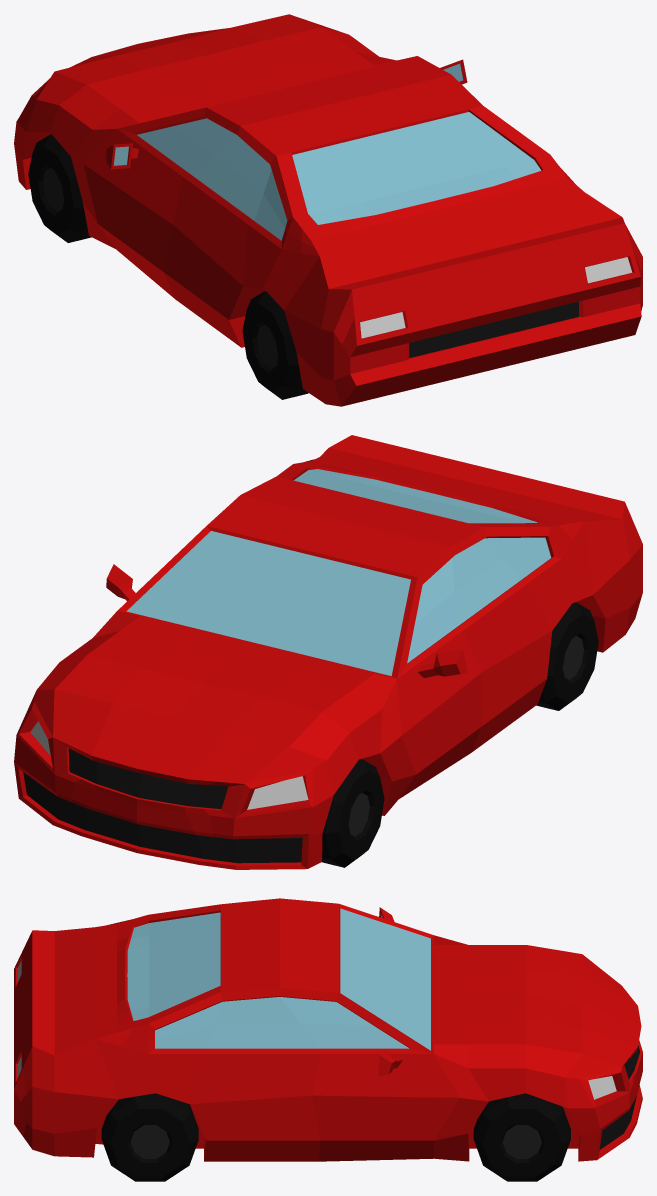
File: RedCar.obj
3 renders of one model, top to bottom at view 1: azimuth 30°, elevation 25°; view 2: azimuth 150°, elevation 25°; view 3: azimuth 270°, elevation 25°, orthographic. The views are drawn at different scales.
Parts seen in each view (by area): view 1: Body_Cube.001, BackLeftWheel_Cylinder.001, FrontLeftWheel_Cylinder; view 2: Body_Cube.001, FrontLeftWheel_Cylinder, BackLeftWheel_Cylinder.001; view 3: Body_Cube.001, BackRightWheel_Cylinder.003, FrontRightWheel_Cylinder.002.
Boxes of the visible parts, <box> form: Body_Cube.001: <box>14,14,642,406</box>; BackLeftWheel_Cylinder.001: <box>242,291,308,399</box>; FrontLeftWheel_Cylinder: <box>28,134,91,242</box>; Body_Cube.001: <box>14,435,642,869</box>; FrontLeftWheel_Cylinder: <box>322,759,384,867</box>; BackLeftWheel_Cylinder.001: <box>536,602,598,710</box>; Body_Cube.001: <box>14,898,642,1161</box>; BackRightWheel_Cylinder.003: <box>101,1093,198,1181</box>; FrontRightWheel_Cylinder.002: <box>473,1093,570,1181</box>.
Size of the model in its own units: 1.07 by 0.5792 by 1.87.
